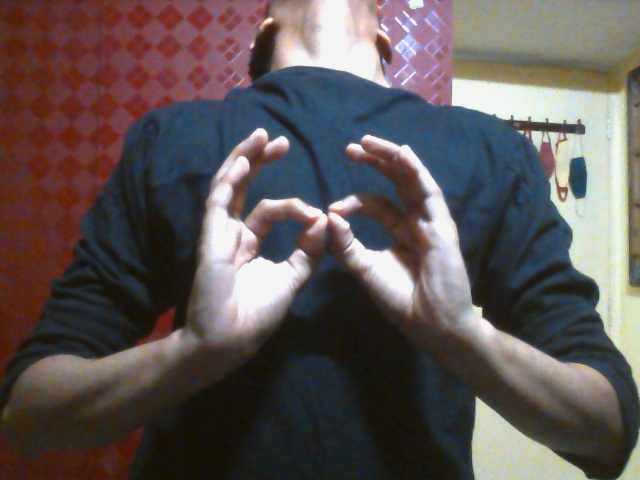B: (182, 127, 488, 377)
